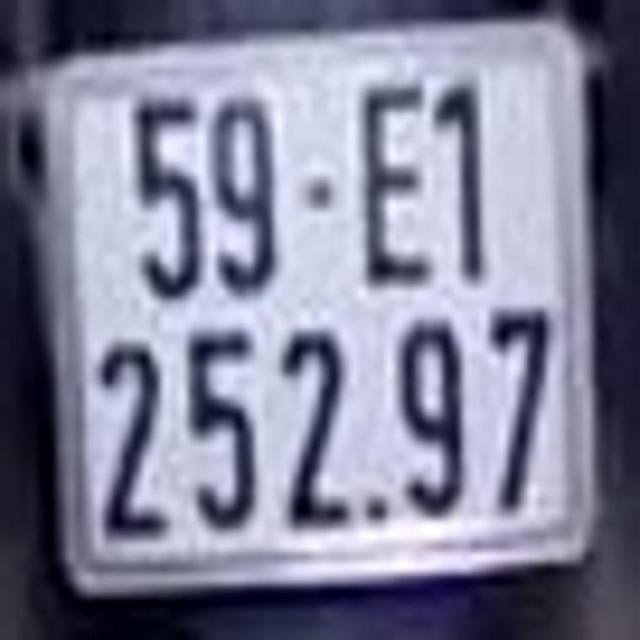1: (430, 67, 500, 276)
2: (93, 323, 171, 536), (283, 312, 357, 532)
5: (118, 80, 204, 303), (186, 310, 260, 534)
7: (478, 298, 565, 517)
9: (202, 66, 286, 297), (390, 308, 469, 519)
E: (354, 65, 430, 289)
